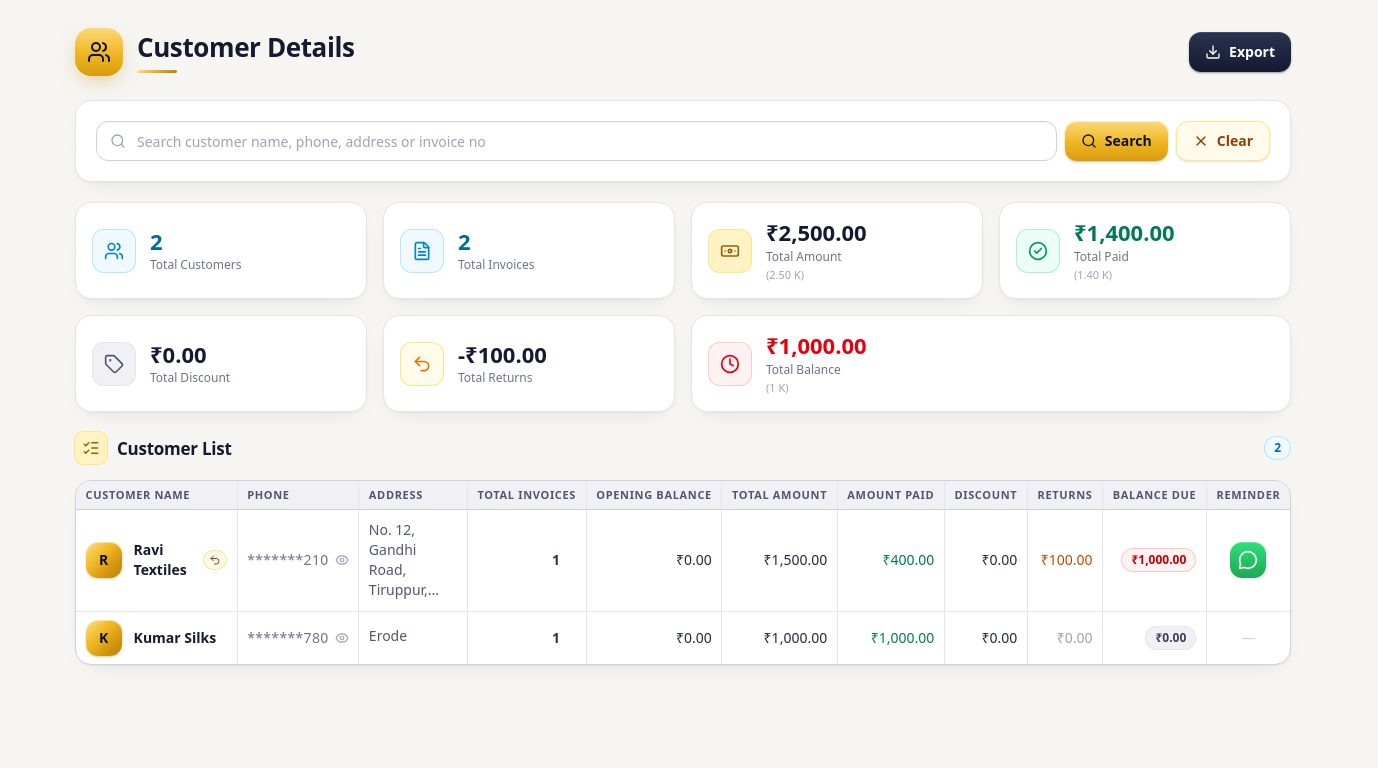
Test: Customer Details page (shared party layout) › Search / Clear filter the list; a search with no match says so
Expected: the heading "Customer List" is shown, [75,432,232,464]
Type "kumar" into the search field named "Search customers" at (576, 141), box [96,121,1057,161]
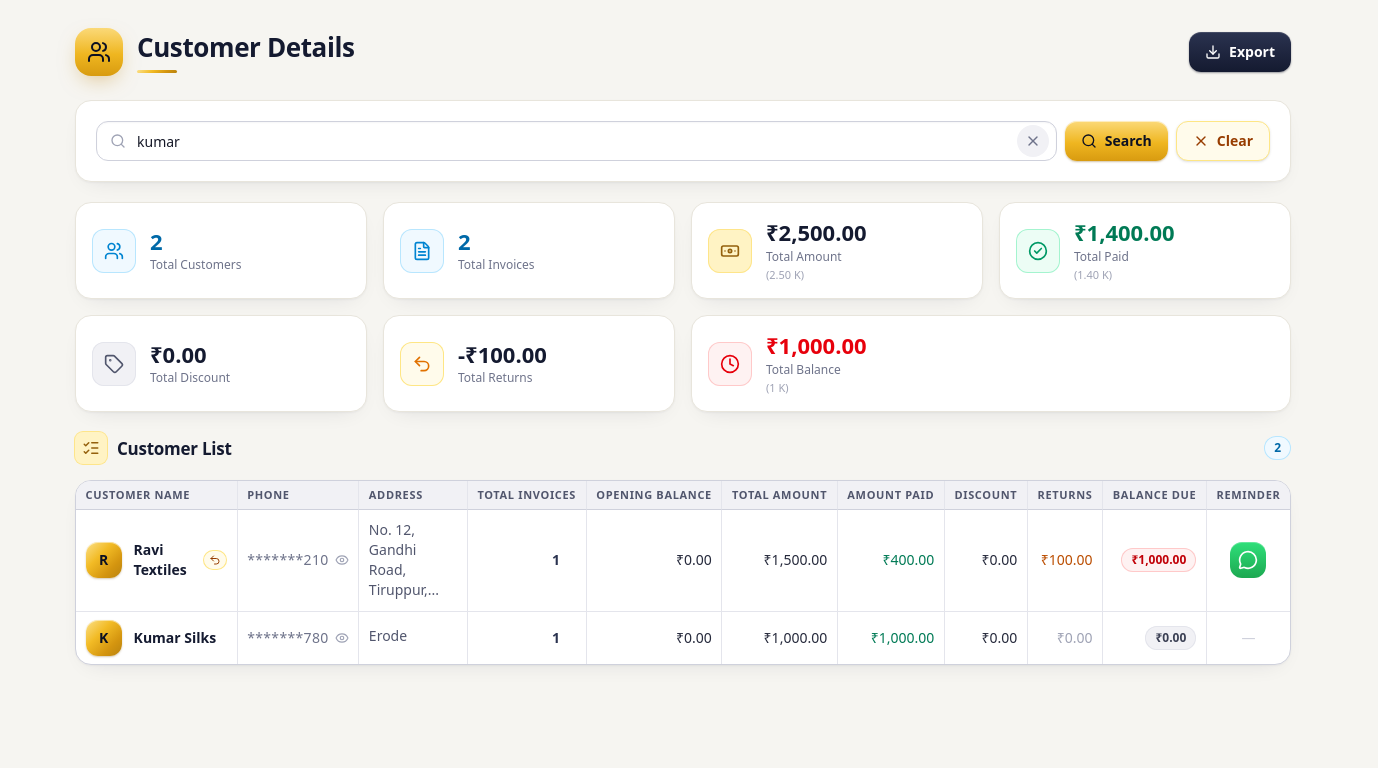
Click the button "Search" at (1116, 141), box [1065,121,1168,161]
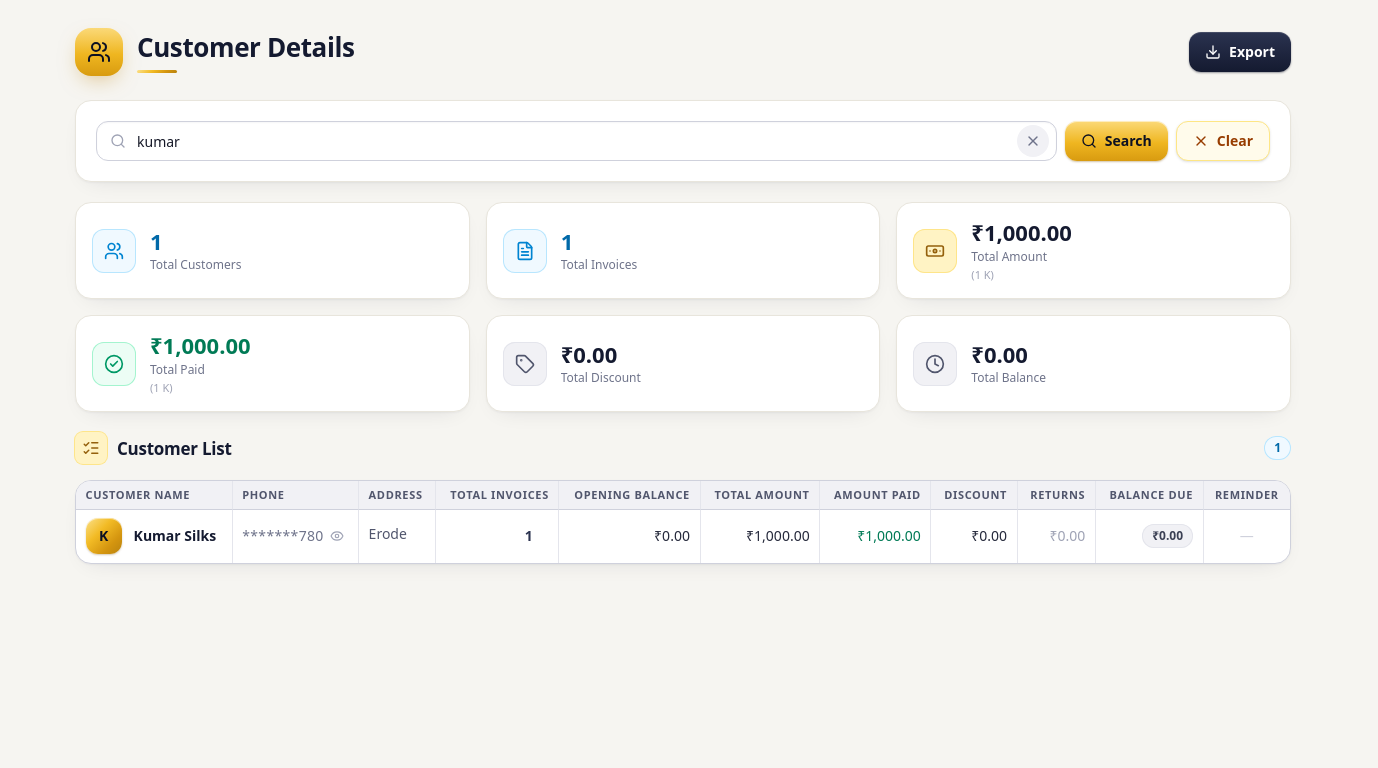
Expected: the text "Kumar Silks" is shown, [134,526,216,546]
Expected: the text "Ravi Textiles" is gone
Click the button "Clear" at (1223, 141), box [1176,121,1270,161]
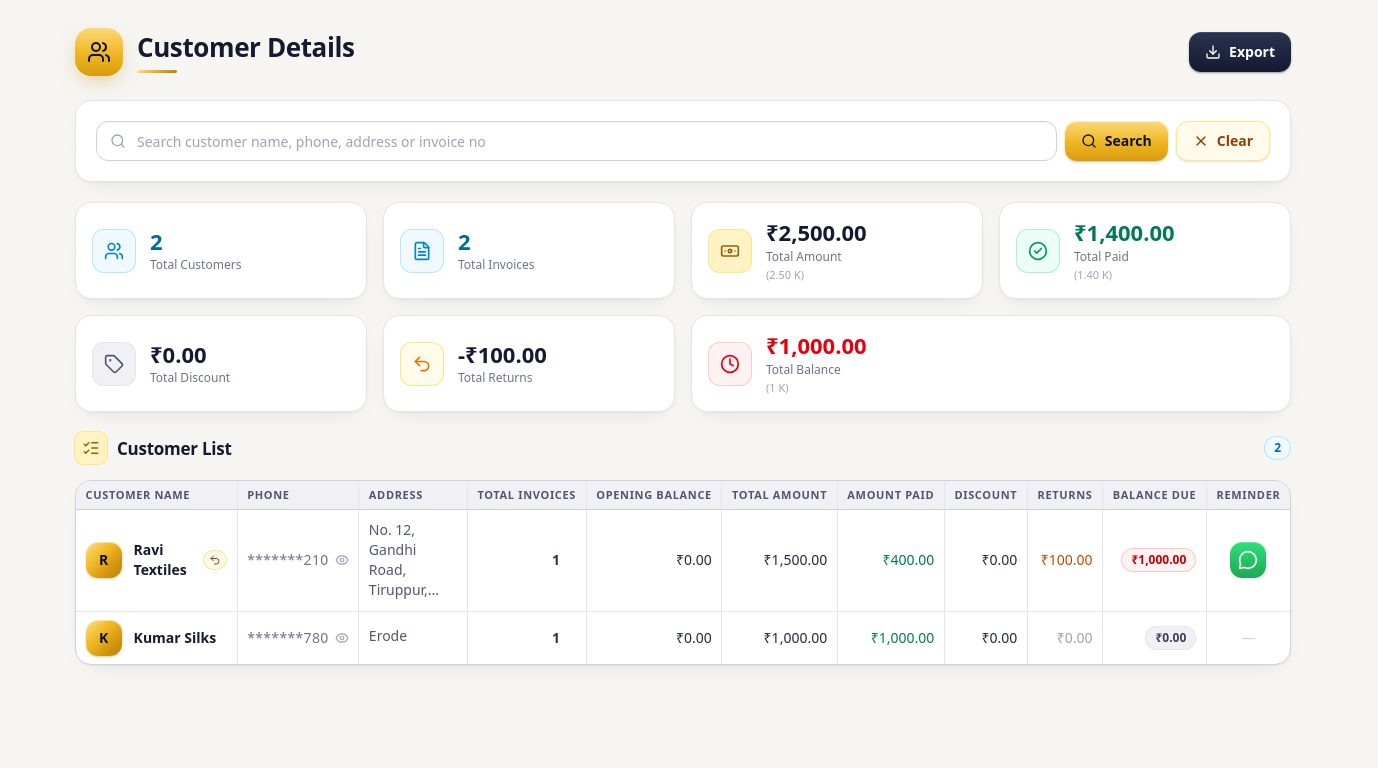
Expected: the text "Ravi Textiles" is shown, [134,540,191,580]
Expected: the search field named "Search customers" is empty
Type "zzz" into the search field named "Search customers" at (576, 141), box [96,121,1057,161]
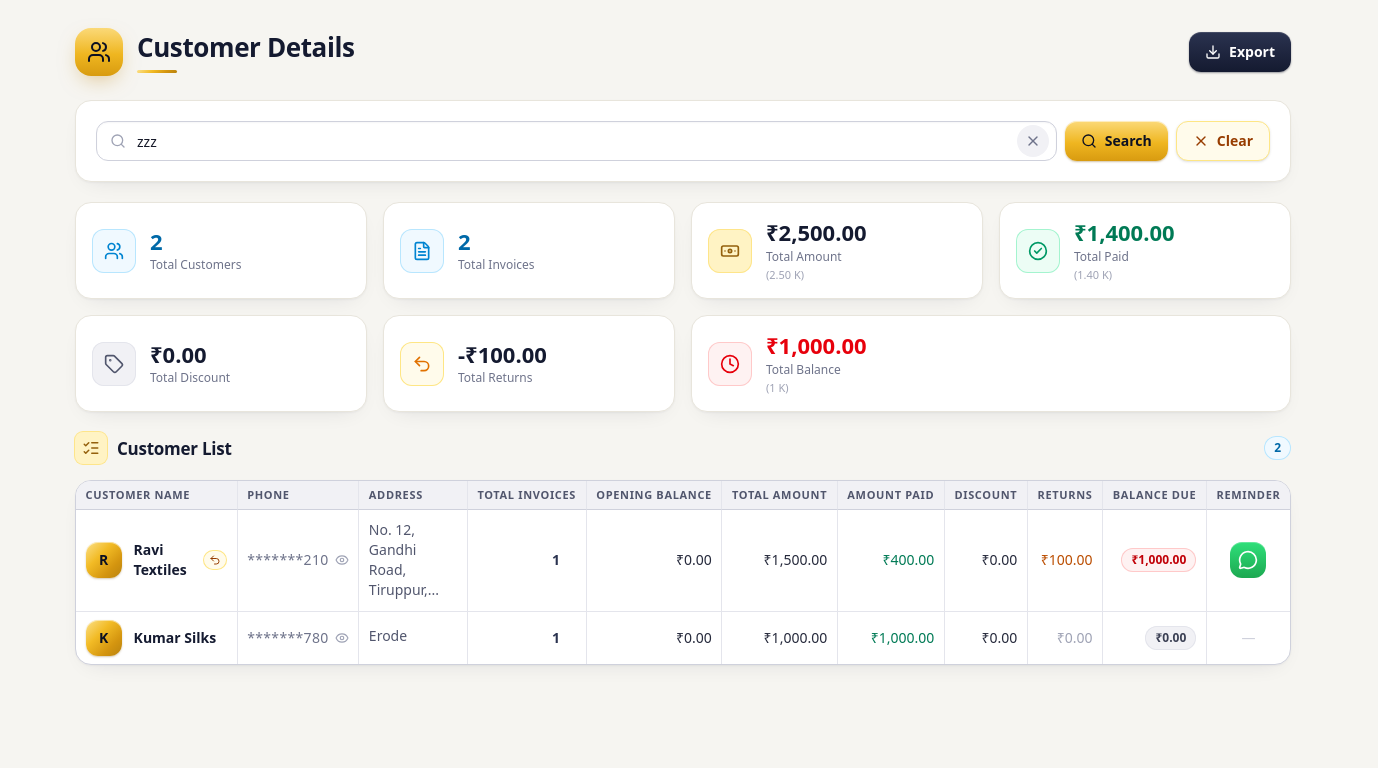
Click the button "Search" at (1116, 141), box [1065,121,1168,161]
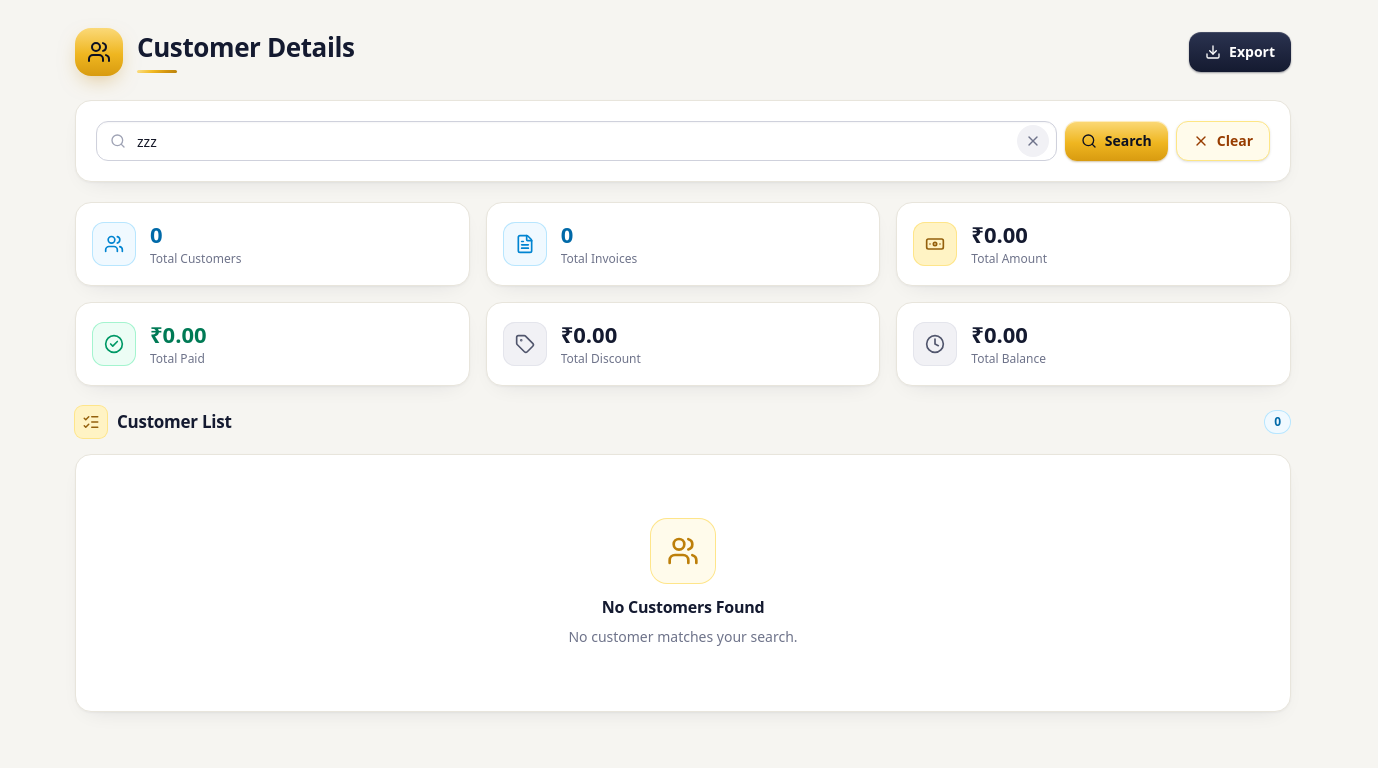
Expected: the heading "No Customers Found" is shown, [602,595,764,619]
Expected: the text "No customer matches your search." is shown, [568,627,798,647]
